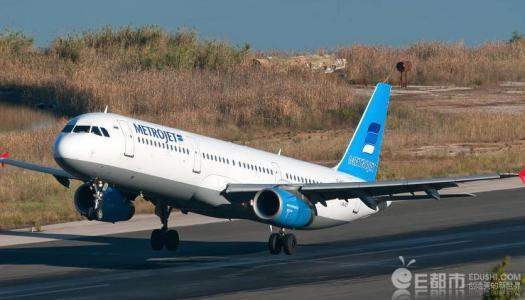airplane: (1, 77, 503, 256)
